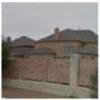chimneys: (53, 24, 61, 40), (6, 35, 12, 46)
